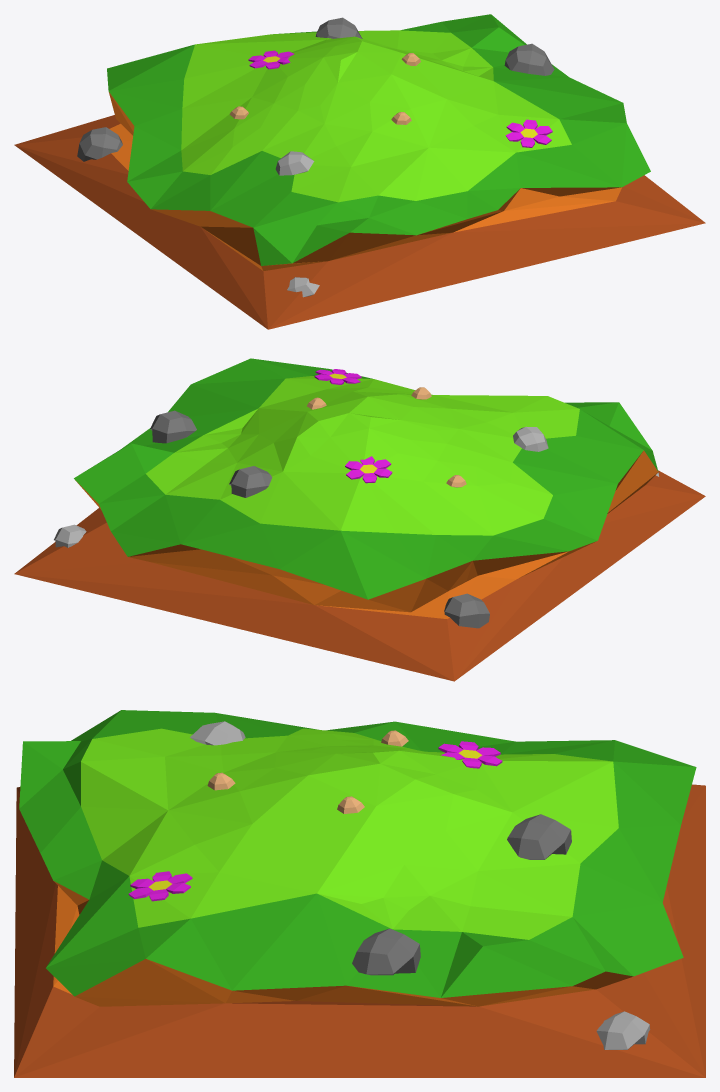
File: Pasto.fbx
The picture shows the model from 3 angles, top to bottom: view 1: azimuth 30°, elevation 25°; view 2: azimuth 150°, elevation 25°; view 3: azimuth 270°, elevation 25°; orthographic projection. The views are drawn at different scales.
Visible parts, largest first — view 1: Cube, Esfera, Esfera.005, Cilindro.006, Esfera.002, Esfera.003, Cilindro.002; view 2: Cube, Esfera.005, Esfera, Esfera.003, Cilindro.002, Esfera.002, Cilindro.006, Esfera.004; view 3: Cube, Esfera, Esfera.003, Esfera.004, Cilindro.006, Cilindro.002, Esfera.002.
Boxes of the visible parts, box(x1,y1,x2,y2) form: Cube: box(14, 14, 705, 329); Esfera: box(504, 43, 554, 75); Esfera.005: box(77, 127, 122, 161); Cilindro.006: box(505, 119, 552, 147); Esfera.002: box(275, 151, 314, 175); Esfera.003: box(315, 17, 362, 38); Cilindro.002: box(248, 50, 294, 69); Cube: box(14, 358, 705, 681); Esfera.005: box(444, 593, 489, 628); Esfera: box(150, 410, 196, 443); Esfera.003: box(229, 466, 272, 497); Cilindro.002: box(345, 456, 392, 483); Esfera.002: box(513, 426, 548, 451); Cilindro.006: box(314, 369, 361, 384); Esfera.004: box(54, 524, 86, 547); Cube: box(14, 710, 705, 1077); Esfera: box(352, 928, 420, 975); Esfera.003: box(507, 814, 571, 859); Esfera.004: box(596, 1011, 650, 1049); Cilindro.006: box(128, 871, 192, 901); Cilindro.002: box(438, 741, 502, 768); Esfera.002: box(190, 721, 245, 745).
Size of the model in its own units: 201 by 200 by 54.92.
